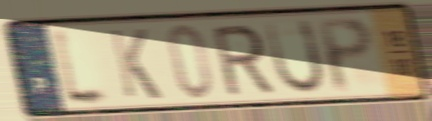0: (165, 22, 214, 102)
K: (106, 26, 165, 102)
L: (49, 22, 116, 110)
P: (313, 14, 377, 96)
R: (209, 22, 277, 98)
U: (262, 16, 328, 97)
